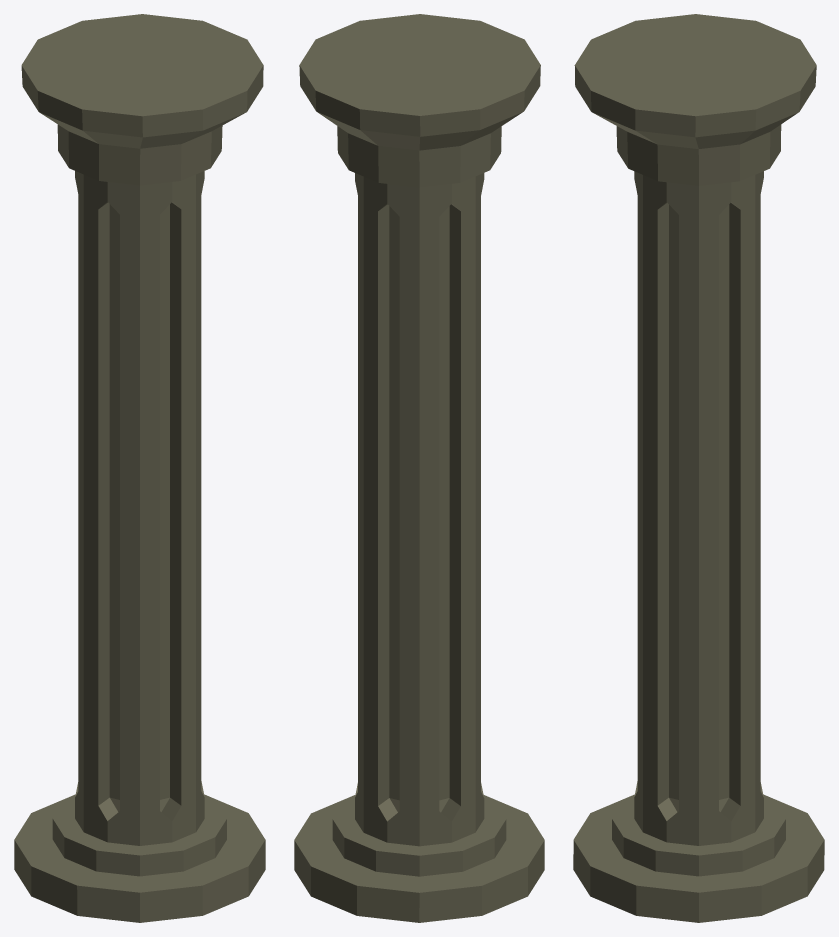
Rendered from colon 1.fbx.
3 views of the same model, side by side, from view 1: azimuth 30°, elevation 25°; view 2: azimuth 150°, elevation 25°; view 3: azimuth 270°, elevation 25° (orthographic).
Visible parts, largest first — view 1: colon 1; view 2: colon 1; view 3: colon 1.
Boxes of the visible parts, x1,y1,x2,y2 form: colon 1: [14, 14, 265, 922]; colon 1: [294, 14, 544, 922]; colon 1: [573, 14, 824, 922].
Bounding box in the file's own units: 185 × 655 × 185.
